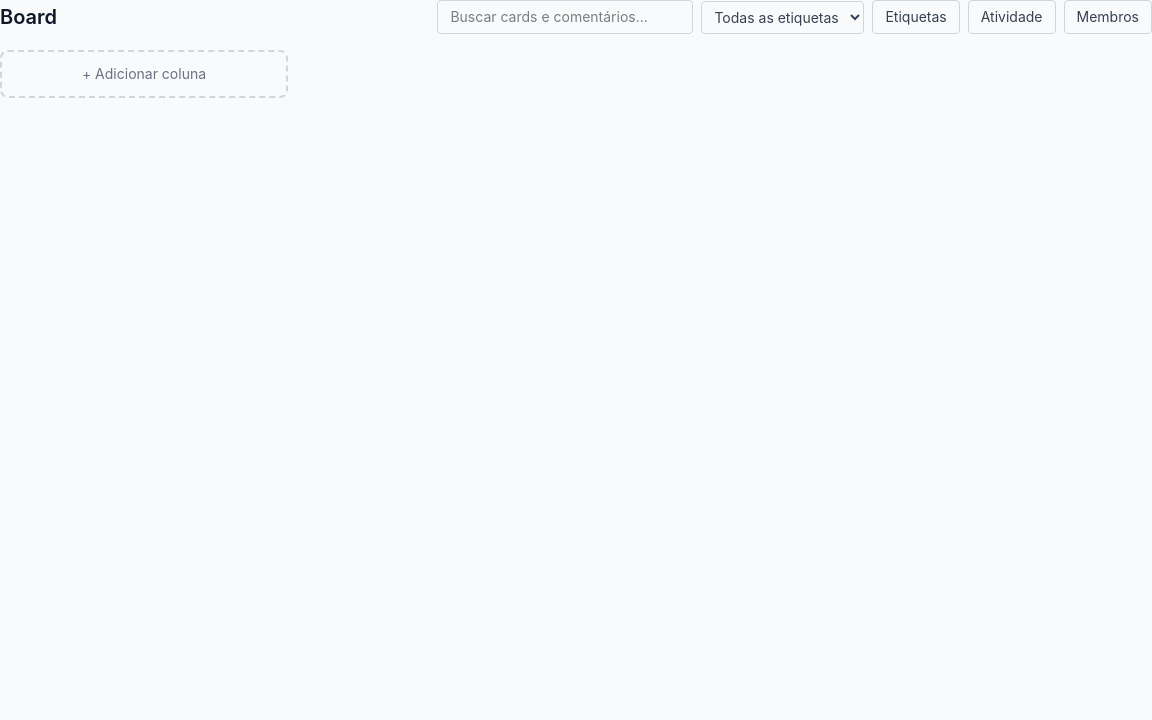
BoardPage › opens the members panel from the header button
Click the button "Membros": [1108, 17] box [1064, 0, 1151, 34]
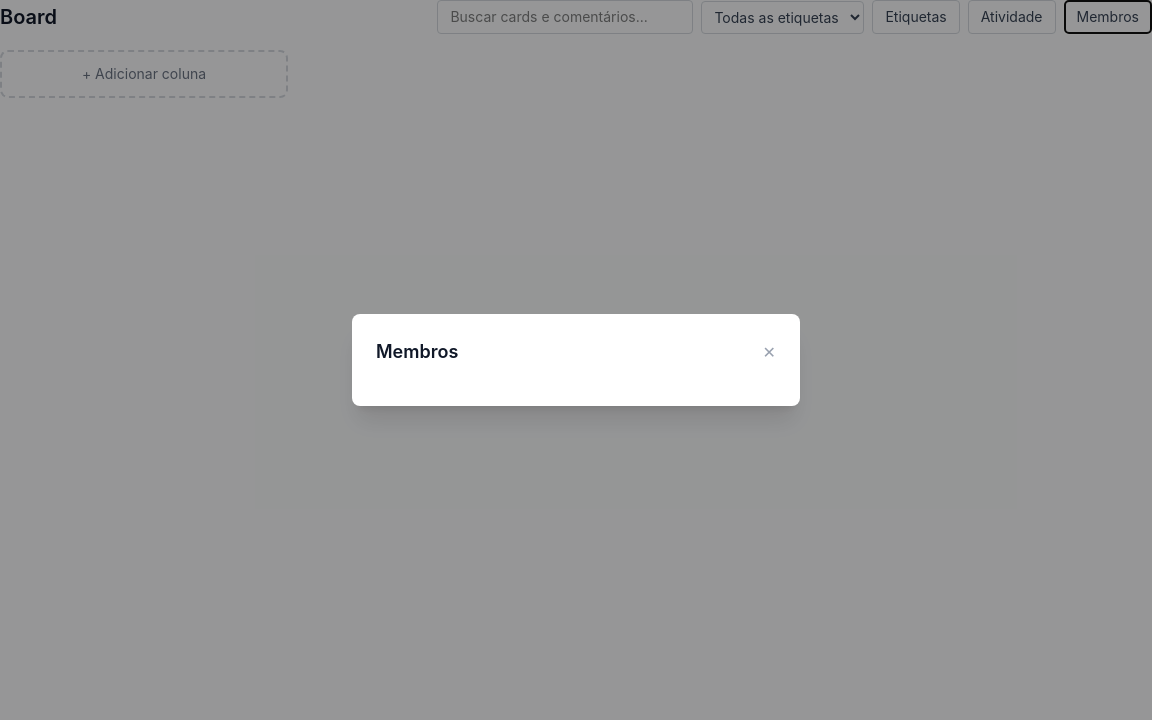
Check: the dialog "Membros ✕" is shown, box [352, 314, 800, 406]
